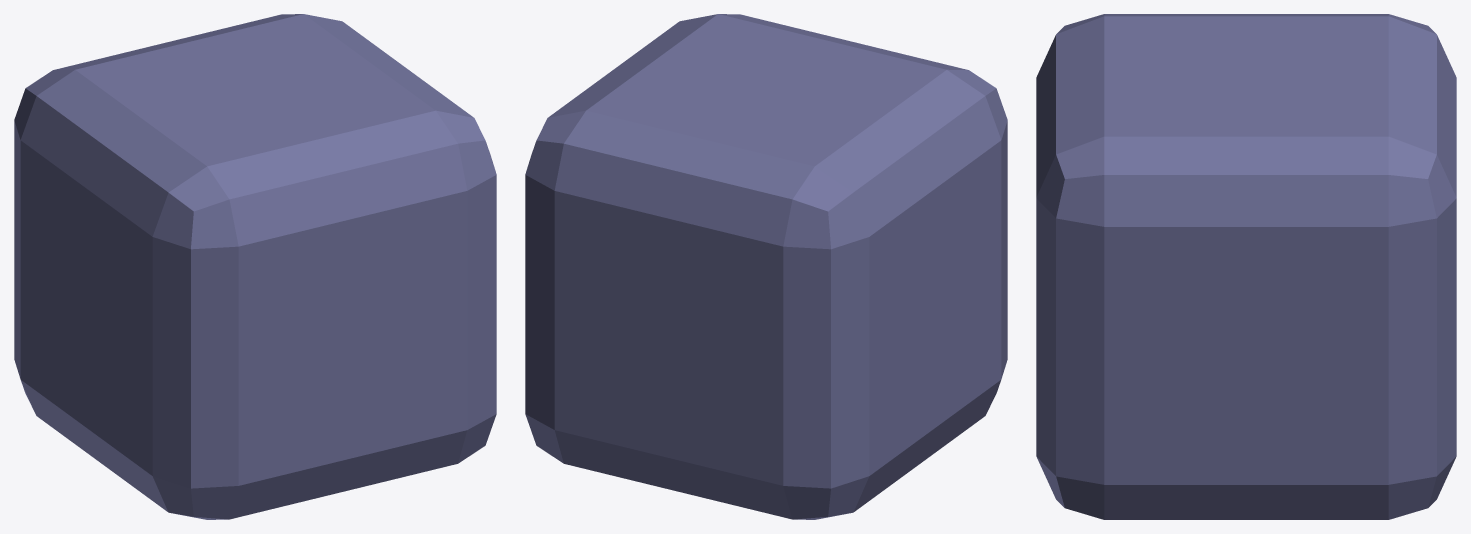
The model's file is Stone.fbx.
3 views of the same model, side by side, from view 1: azimuth 30°, elevation 25°; view 2: azimuth 150°, elevation 25°; view 3: azimuth 270°, elevation 25° (orthographic). The views are drawn at different scales.
Visible parts, largest first — view 1: Stone; view 2: Stone; view 3: Stone.
Boxes of the visible parts, box(x1,y1,x2,y2) form: Stone: box(14, 14, 496, 519); Stone: box(525, 14, 1007, 519); Stone: box(1036, 14, 1456, 519).
Bounding box in the file's own units: 160 × 160 × 160.
